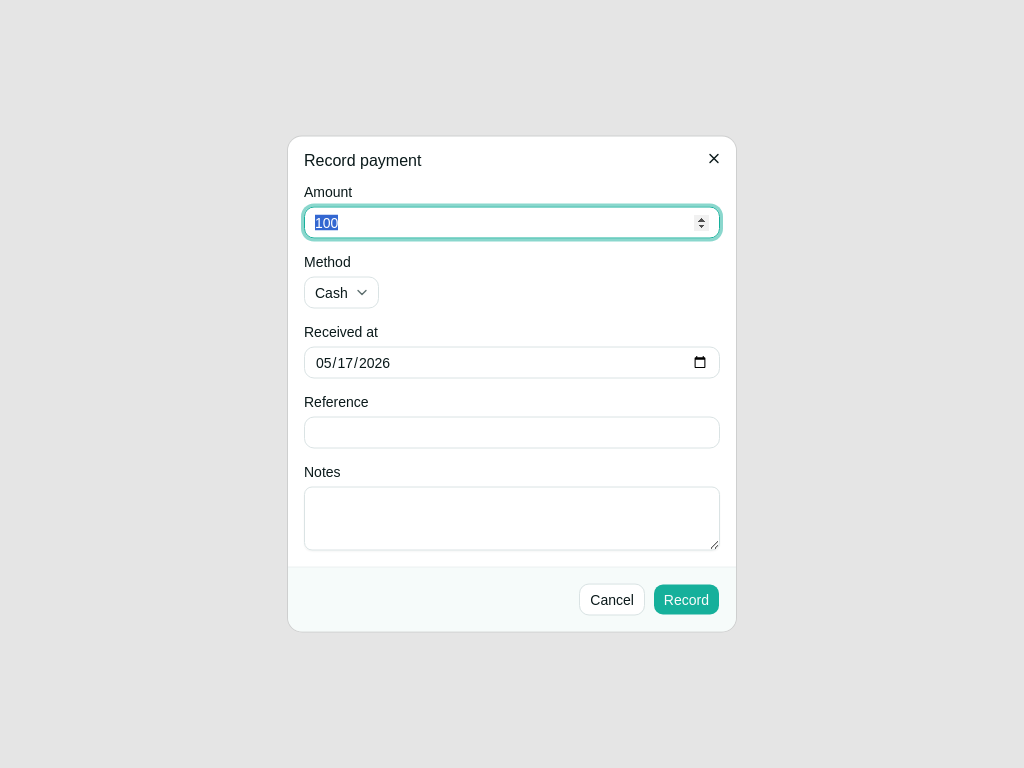
Scenario: PaymentDialog › rejects non-positive amounts via the schema
This screenshot has width=1024, height=768.
Replace the text in the number field labelled "Amount" with "0" at (512, 222), box [304, 206, 720, 238]
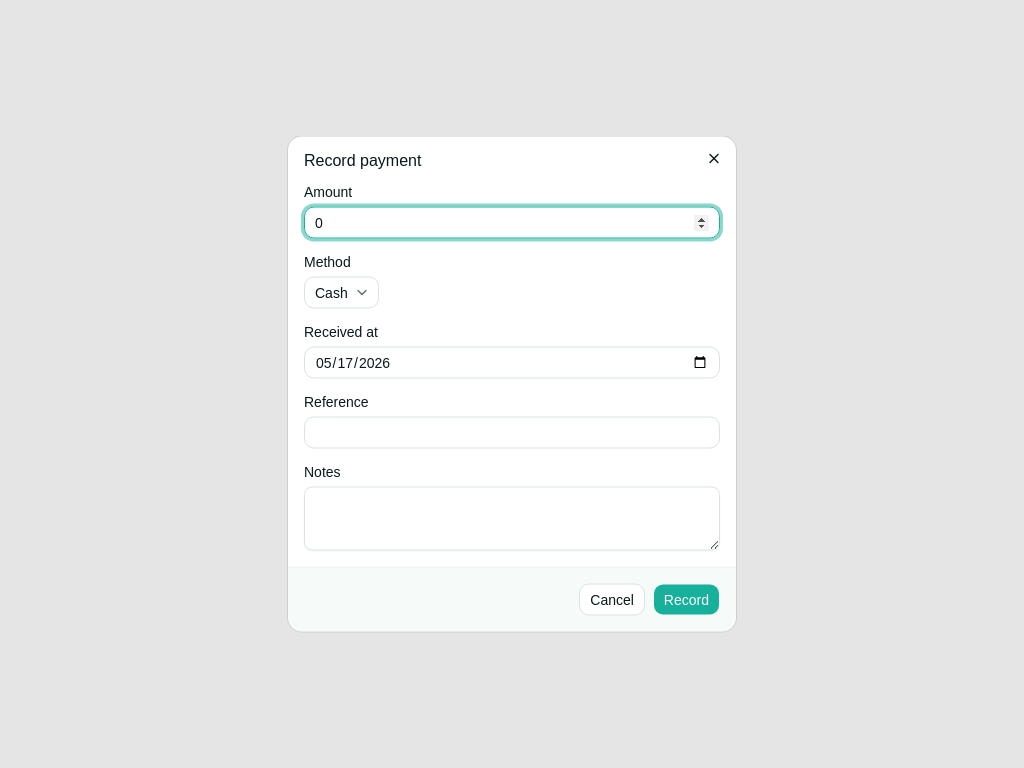
Click the button "Record" at (686, 600), box [653, 584, 720, 616]
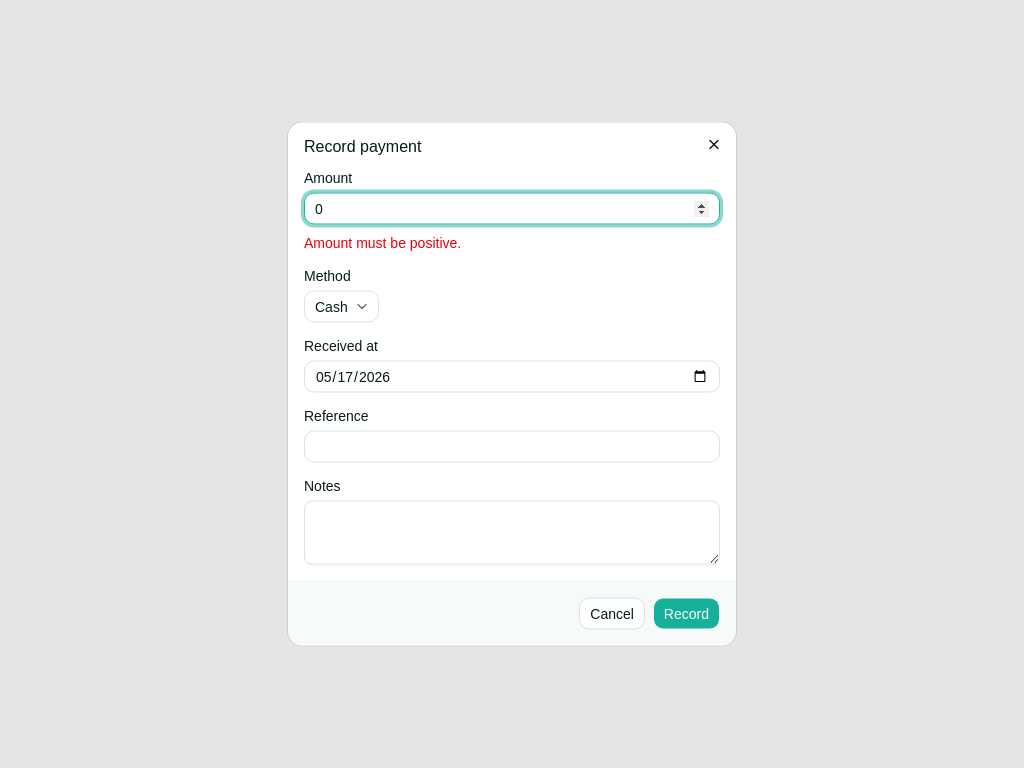
Check: the text "Amount must be positive." is shown, box [304, 234, 461, 250]
